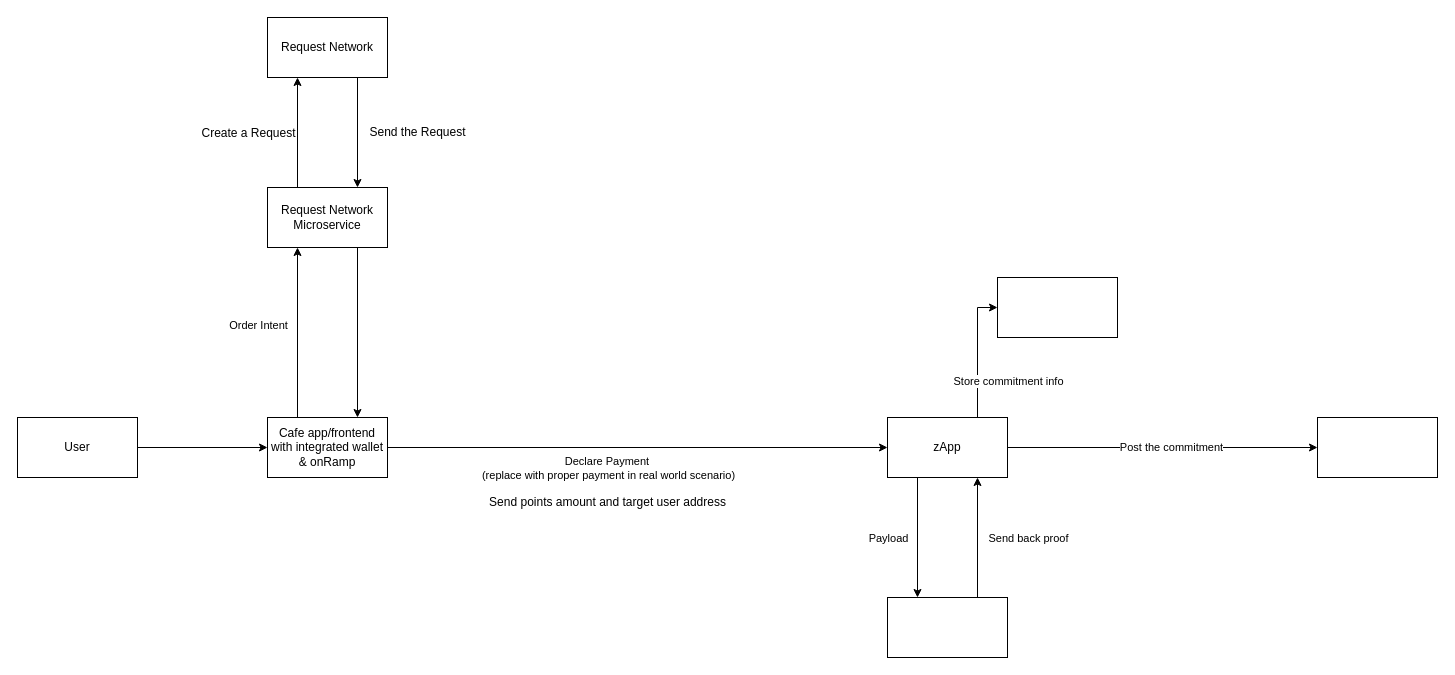
Some shapes in this 1455 by 675 pixel diagram are drawn without their labels. The shapes that lost their labels are listed below. From the top down, each one's box as (x1, y1, x2, y2) in pixels, then its label:
(996, 276, 1118, 338): Timber/MongoDB
(1316, 416, 1438, 478): Shield Contract
(886, 596, 1008, 658): Zokrates worker (generate proof)
